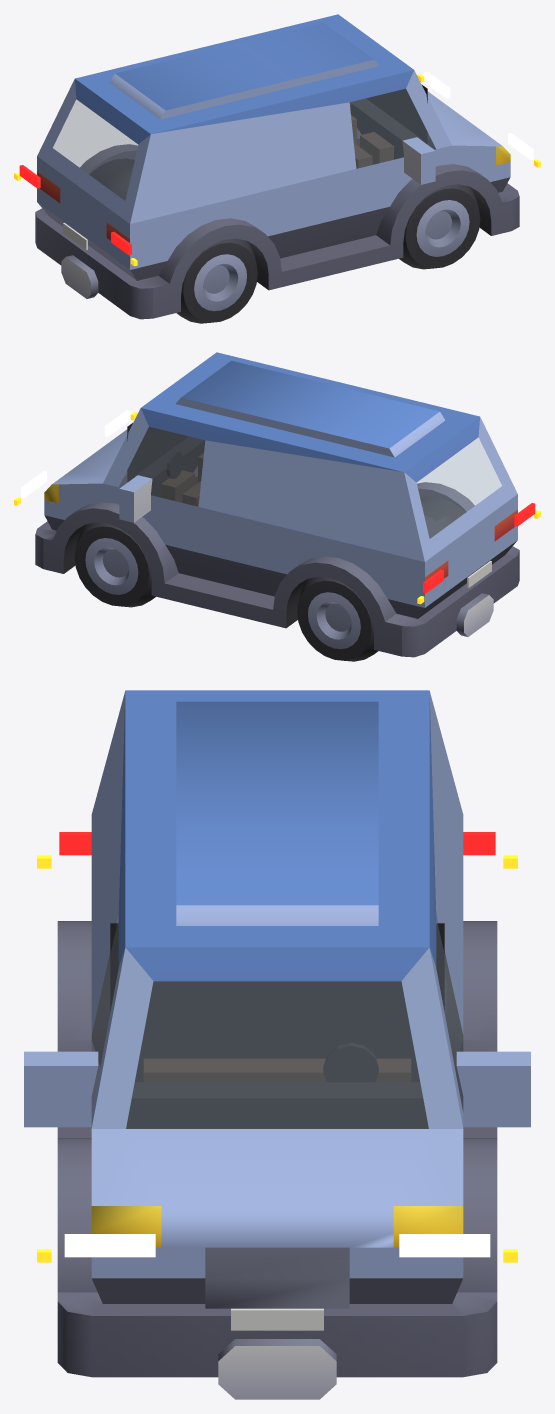
Rendered from veh_minibus.glb.
3 renders of one model, top to bottom at view 1: azimuth 30°, elevation 25°; view 2: azimuth 150°, elevation 25°; view 3: azimuth 270°, elevation 25°, orthographic. The views are drawn at different scales.
Visible parts, largest first — view 1: body, wheel_fr, wheel_rr, interior, interior_dash, interior_seat_-1, light_head, light_tail, wheel_rl; view 2: body, wheel_fl, wheel_rl, interior, interior_dash, interior_seat_1, light_head, light_tail; view 3: body, interior, interior_dash, interior_bench, light_head, plate_front, interior_steer, light_tail.
Part boxes in pixels (box(x1,y1,x2,y2)): body: box(35, 14, 519, 319); wheel_fr: box(399, 184, 480, 269); wheel_rr: box(176, 238, 257, 323); interior: box(357, 85, 427, 159); interior_dash: box(350, 98, 421, 156); interior_seat_-1: box(360, 132, 393, 164); light_head: box(424, 71, 533, 160); light_tail: box(19, 165, 131, 255); wheel_rl: box(102, 168, 132, 200); body: box(35, 352, 519, 657); wheel_fl: box(74, 522, 155, 607); wheel_rl: box(297, 576, 378, 661); interior: box(127, 423, 197, 497); interior_dash: box(133, 436, 205, 494); interior_seat_1: box(161, 470, 194, 502); light_head: box(21, 409, 130, 498); light_tail: box(423, 503, 535, 593); body: box(24, 690, 530, 1399); interior: box(110, 923, 444, 1128); interior_dash: box(127, 1082, 427, 1128); interior_bench: box(143, 1058, 411, 1128); light_head: box(64, 1234, 490, 1257); plate_front: box(231, 1308, 323, 1330); interior_steer: box(323, 1042, 378, 1082); light_tail: box(59, 832, 495, 855).
Size of the model in its own units: 5.05 by 2.45 by 2.73.
9 materials, 1 textured.
